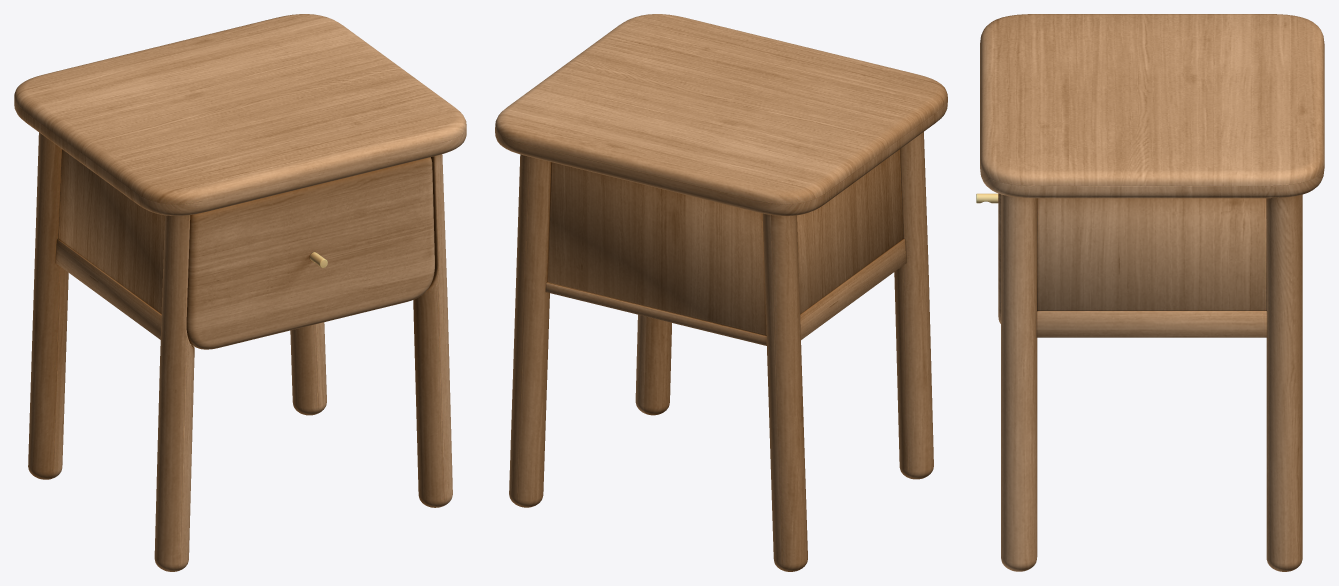
The model's file is table.glb.
3 views of the same model, side by side, from view 1: azimuth 30°, elevation 25°; view 2: azimuth 150°, elevation 25°; view 3: azimuth 270°, elevation 25° (orthographic). The views are drawn at different scales.
Parts seen in each view (by area): view 1: OAK; view 2: OAK; view 3: OAK.
Boxes of the visible parts, x1=… form: OAK: x1=14, y1=14, x2=466, y2=571; OAK: x1=495, y1=14, x2=947, y2=571; OAK: x1=980, y1=14, x2=1324, y2=571.
Size of what is drawn, in the model's own units: 45.83 by 52.84 by 40.73.
2 materials, 2 textured.
